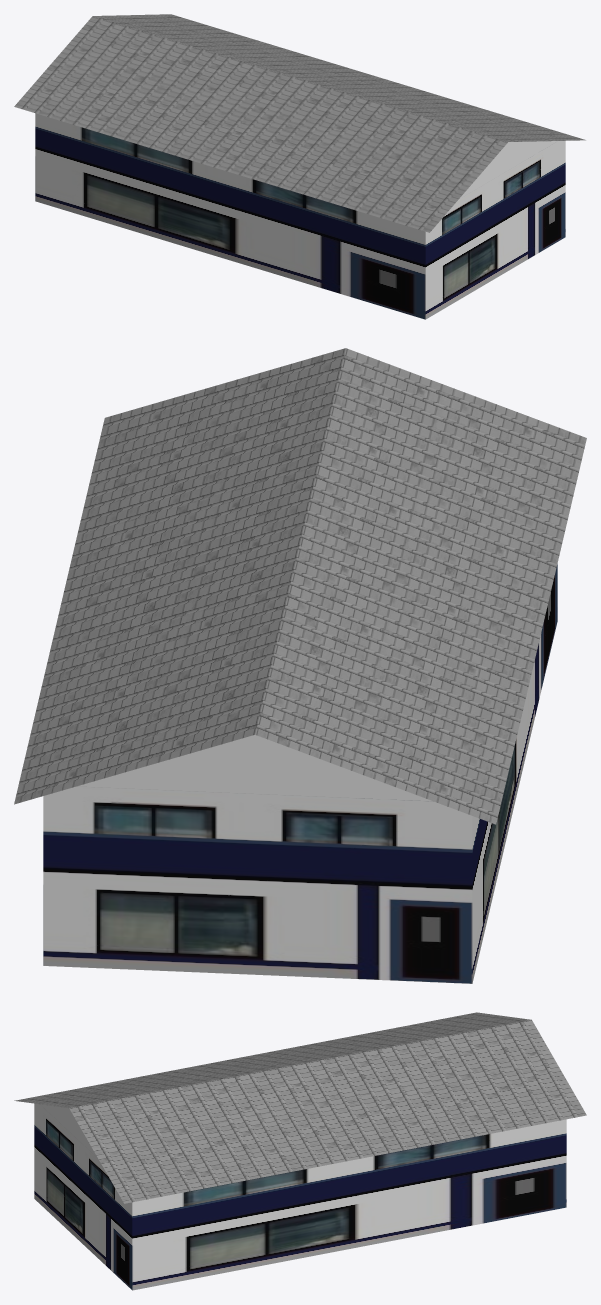
3 renders of one model, top to bottom at view 1: azimuth 30°, elevation 25°; view 2: azimuth 150°, elevation 25°; view 3: azimuth 270°, elevation 25°, orthographic. The views are drawn at different scales.
Visible parts, largest first — view 1: CityEngineMaterial_4_m, CityEngineMaterial_2_m, CityEngineMaterial_3_m; view 2: CityEngineMaterial_4_m, CityEngineMaterial_2_m, CityEngineMaterial_3_m; view 3: CityEngineMaterial_4_m, CityEngineMaterial_2_m, CityEngineMaterial_3_m.
Boxes of the visible parts, <box> form: CityEngineMaterial_4_m: <box>14,14,585,232</box>; CityEngineMaterial_2_m: <box>35,113,565,319</box>; CityEngineMaterial_3_m: <box>459,141,557,198</box>; CityEngineMaterial_4_m: <box>14,348,586,824</box>; CityEngineMaterial_2_m: <box>43,564,557,983</box>; CityEngineMaterial_3_m: <box>78,735,432,801</box>; CityEngineMaterial_4_m: <box>14,1012,586,1203</box>; CityEngineMaterial_2_m: <box>34,1103,566,1290</box>; CityEngineMaterial_3_m: <box>40,1104,97,1157</box>.
Bounding box in the file's own units: 28.97 × 9.82 × 36.63.
